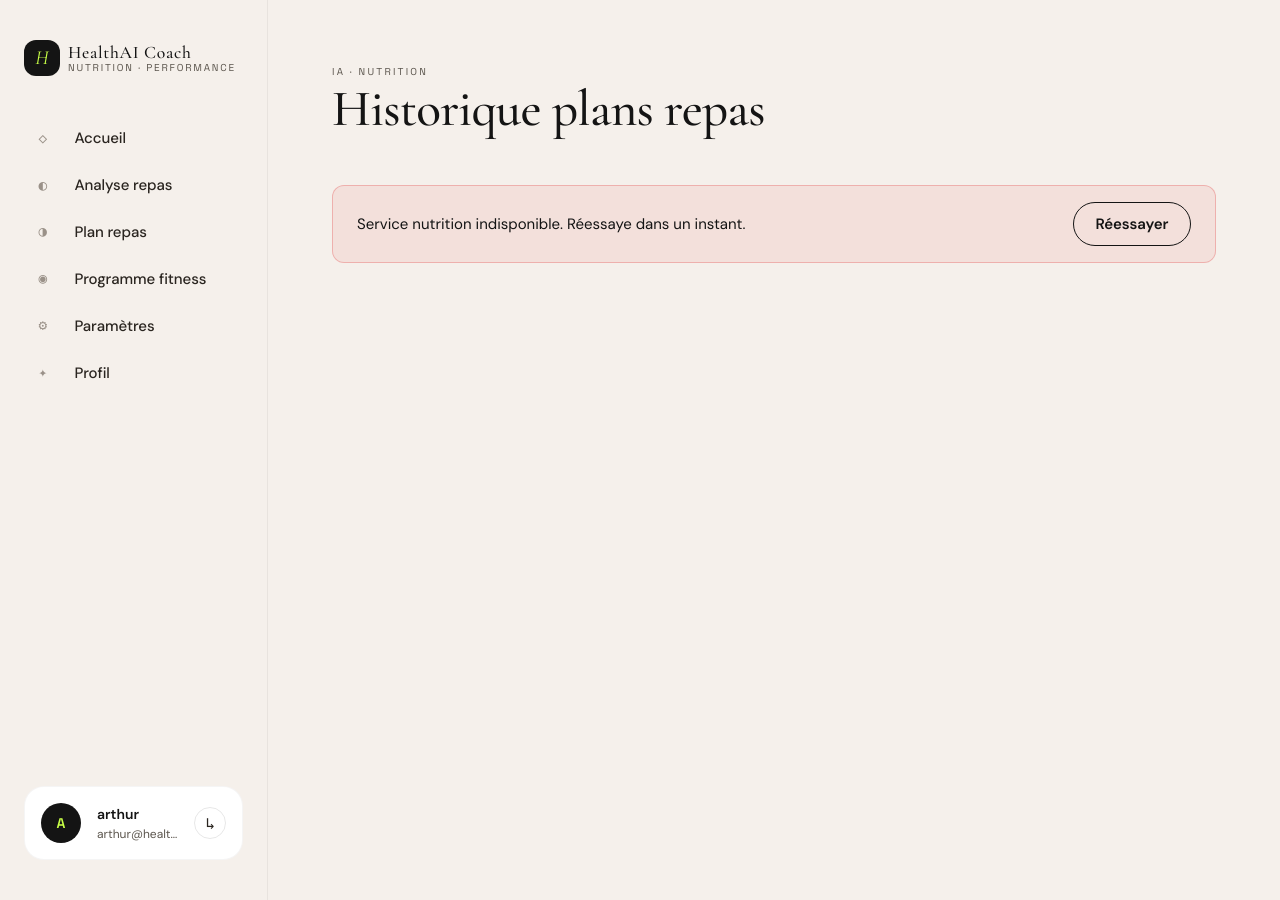
MealPlanHistoryView › error state › retries the fetch when the user clicks "Réessayer"
Click the button with test id "meal-plan-history-retry".
click(1132, 224)  # box [1073, 202, 1191, 246]
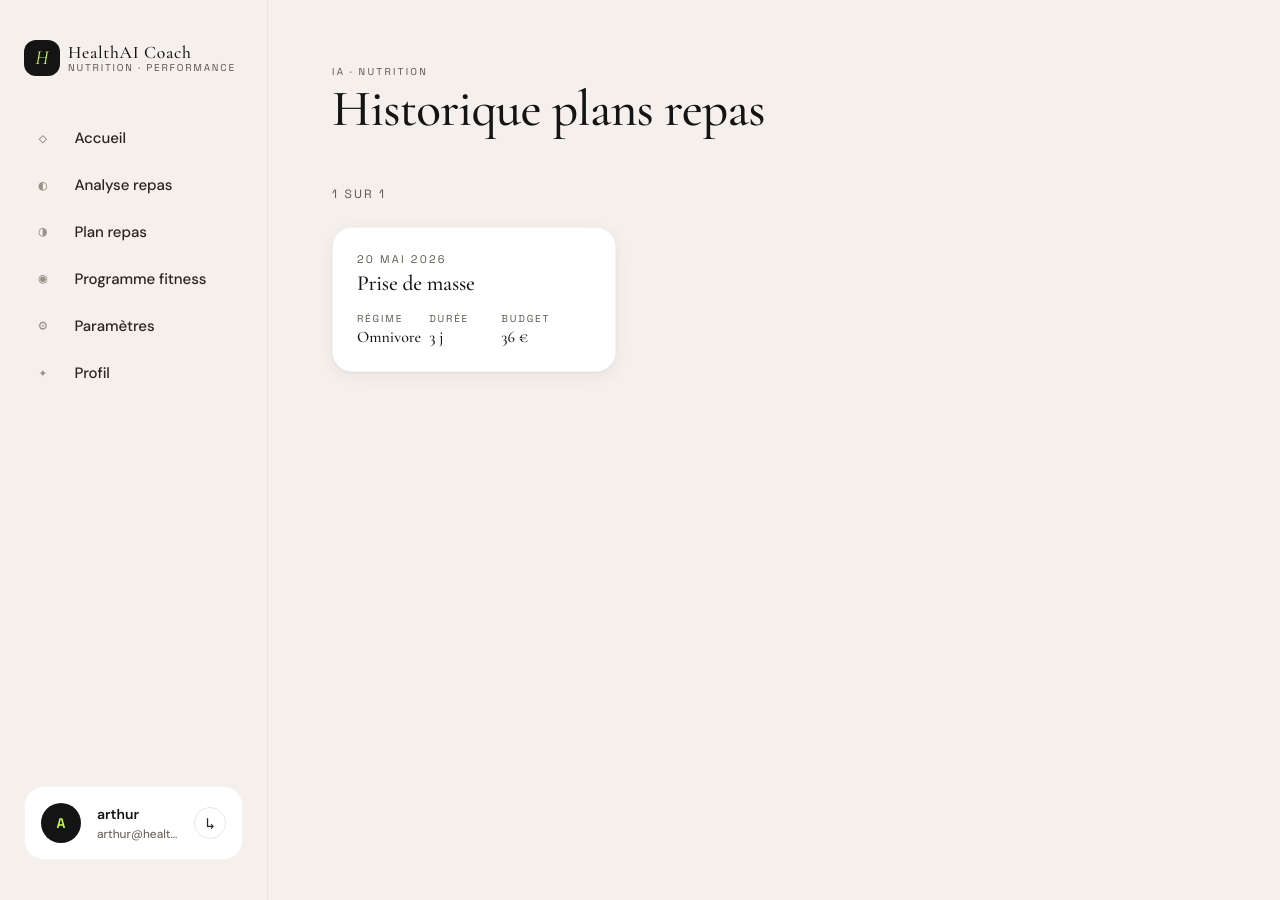
Expected: the number of buttons with test id "meal-plan-history-card" is 1, [332, 227, 616, 372]
